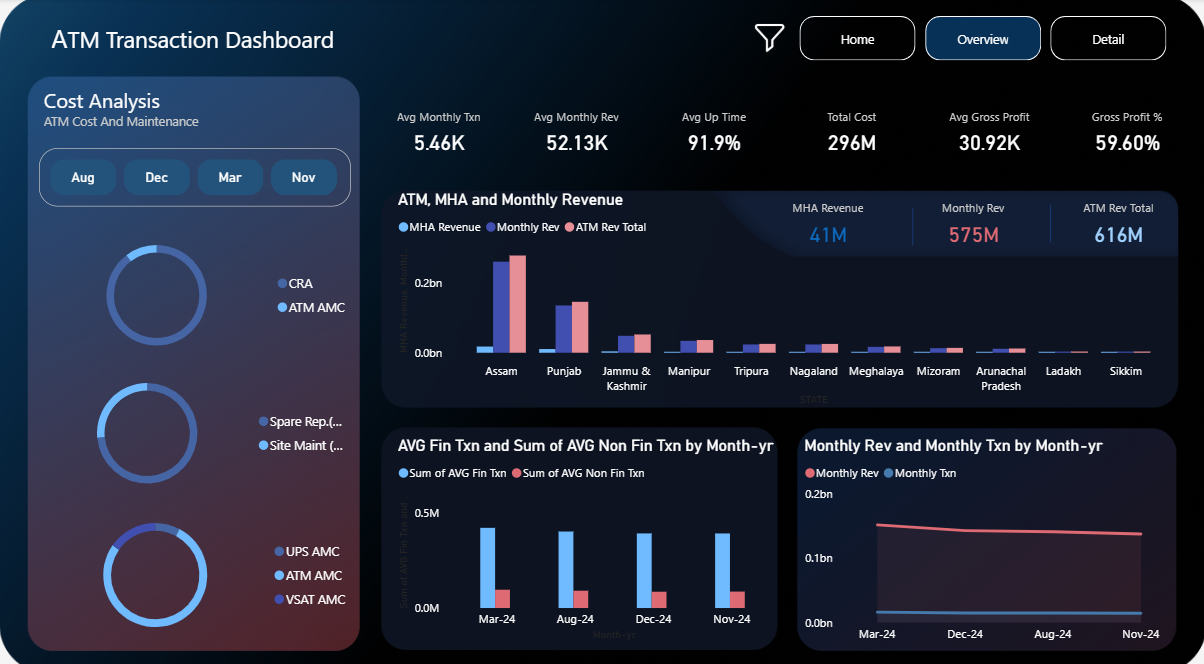

The dashboard page shown, as its layout file describes it:
{"tool":"powerbi","page":{"name":"Overview","canvas":[1280,720],"ordinal":1},"visuals":[{"type":"donutChart","fields":{"Y":["Sum(Dataset.CRA)","Sum(Dataset.ATM AMC)"]},"box":[33.4,243.4,346.8,143.2],"z":1000},{"type":"donutChart","fields":{"Y":["Sum(Dataset.Spare Rep.(UPS))","Sum(Dataset.Site Maint (Non Asset))"]},"box":[33.4,389.7,346.8,143.2],"z":2000},{"type":"donutChart","fields":{"Y":["Sum(Dataset.UPS AMC)","Sum(Dataset.ATM AMC)","Sum(Dataset.VSAT AMC)"]},"box":[33.4,537.6,346.8,147.9],"z":3000},{"type":"clusteredColumnChart","title":"ATM, MHA and Monthly Revenue","fields":{"Y":["Sum(Dataset.MHA Revenue)","Sum(Dataset.Monthly Rev)","Sum(Dataset.ATM Rev Total)"],"Category":["Dataset.STATE"]},"box":[416.7,203.6,835.1,232.2],"z":4000},{"type":"clusteredColumnChart","title":"AVG Fin Txn and Sum of AVG Non Fin Txn by Month-yr","fields":{"Y":["Sum(Dataset.AVG Fin Txn)","Sum(Dataset.AVG Non Fin Txn)"],"Category":["Dataset.Month-yr"]},"box":[416.7,464.5,415.1,221.1],"z":5000},{"type":"areaChart","title":"Monthly Rev and Monthly Txn by Month-yr","fields":{"Category":["Dataset.Month-yr"],"Y":["Sum(Dataset.Monthly Rev)","Sum(Dataset.Monthly Txn)"]},"box":[847.8,464.5,404,227.5],"z":6000},{"type":"advancedSlicerVisual","fields":{"Values":["Dataset.Short_Month"]},"box":[41.4,159.1,330.8,62],"z":7000},{"type":"textbox","box":[41.4,87.5,330.8,71.6],"z":8000},{"type":"cardVisual","fields":{"Data":["Avg(Dataset.Monthly Txn)","Avg(Dataset.Monthly Rev)","Avg(Dataset.Up Time)","Sum(Dataset. Total Cost  )","Avg(Dataset. Gross Profit )","Dataset.Gross Profit Percentage"]},"box":[391.3,87.5,881.2,108.2],"z":9000},{"type":"cardVisual","title":"Title","fields":{"Data":["Sum(Dataset.MHA Revenue)","Sum(Dataset.Monthly Rev)","Sum(Dataset.ATM Rev Total)"]},"box":[800.1,197.2,464.5,82.7],"z":10000},{"type":"pageNavigator","box":[847.8,19.1,391.3,47.7],"z":11000},{"type":"textbox","box":[49.3,19.1,314.9,54.1],"z":12000},{"type":"image","box":[792.1,17.5,47.7,47.7],"z":13000}]}

Visuals, with their boxes in screenshot pixels (x1, y1, x2, y2), scaled from the page's 1280x720 canvas onto the 1204x664 screenshot:
donutChart - Sum(Dataset.CRA) x Sum(Dataset.ATM AMC): [left=31, top=224, right=358, bottom=357]
donutChart - Sum(Dataset.Spare Rep.(UPS)) x Sum(Dataset.Site Maint (Non Asset)): [left=31, top=359, right=358, bottom=491]
donutChart - Sum(Dataset.UPS AMC) x Sum(Dataset.ATM AMC): [left=31, top=496, right=358, bottom=632]
"ATM, MHA and Monthly Revenue" clusteredColumnChart: [left=392, top=188, right=1177, bottom=402]
"AVG Fin Txn and Sum of AVG Non Fin Txn by Month-yr" clusteredColumnChart: [left=392, top=428, right=782, bottom=632]
"Monthly Rev and Monthly Txn by Month-yr" areaChart: [left=797, top=428, right=1177, bottom=638]
advancedSlicerVisual - Dataset.Short_Month: [left=39, top=147, right=350, bottom=204]
textbox: [left=39, top=81, right=350, bottom=147]
cardVisual - Avg(Dataset.Monthly Txn) x Avg(Dataset.Monthly Rev): [left=368, top=81, right=1197, bottom=180]
"Title" cardVisual: [left=753, top=182, right=1190, bottom=258]
pageNavigator: [left=797, top=18, right=1166, bottom=62]
textbox: [left=46, top=18, right=343, bottom=68]
image: [left=745, top=16, right=790, bottom=60]
